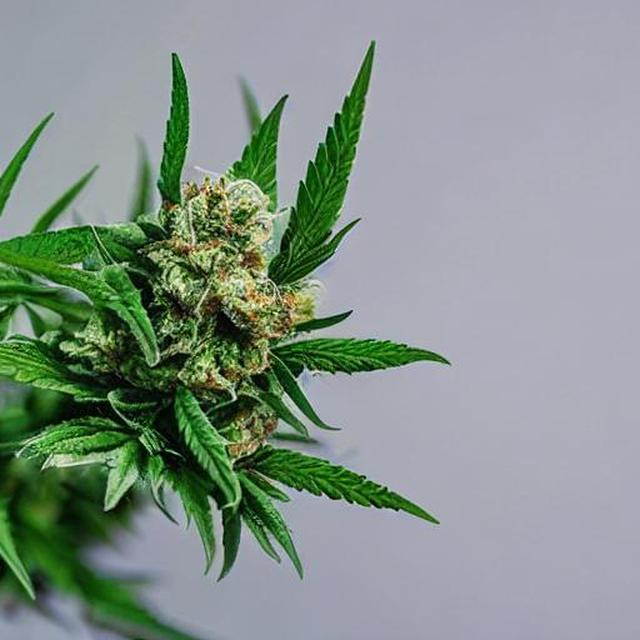Marijuana Plant: (149, 0, 640, 639), (0, 220, 417, 640)
